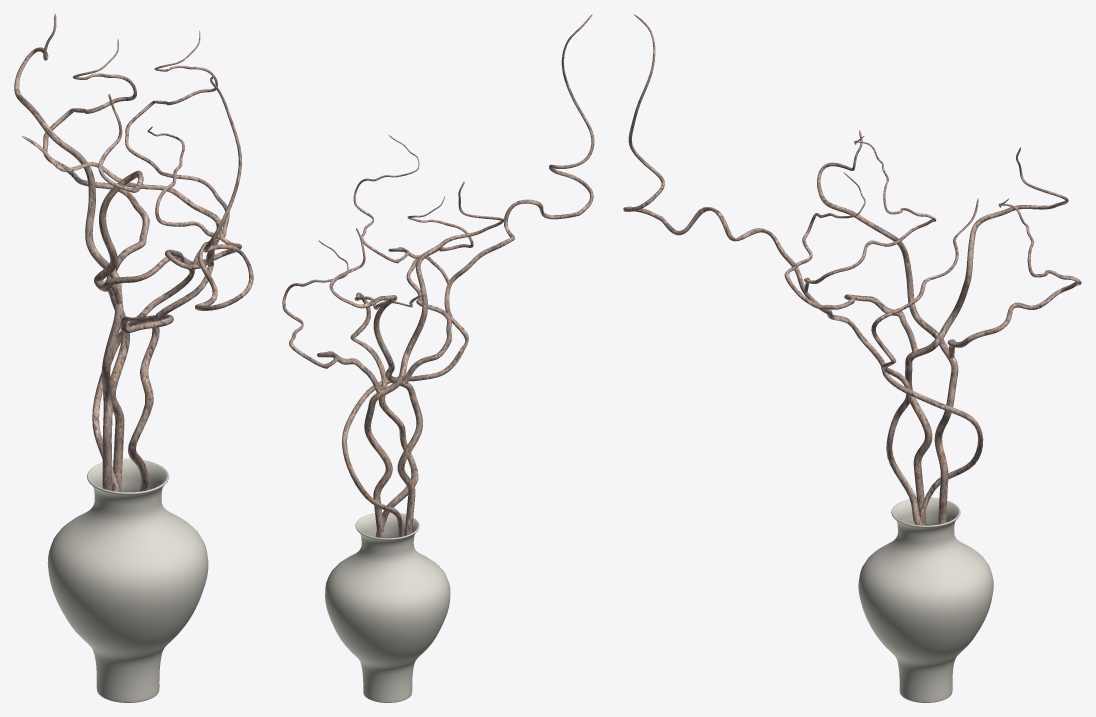
Rendered from veas_3.fbx.
3 views of the same model, side by side, from view 1: azimuth 30°, elevation 25°; view 2: azimuth 150°, elevation 25°; view 3: azimuth 270°, elevation 25° (orthographic). The views are drawn at different scales.
Visible parts, largest first — view 1: Branch_Vase N300523; view 2: Branch_Vase N300523; view 3: Branch_Vase N300523.
Boxes of the visible parts, x1,y1,x2,y2 form: Branch_Vase N300523: [14, 14, 253, 702]; Branch_Vase N300523: [282, 14, 594, 702]; Branch_Vase N300523: [623, 14, 1081, 702].
Size of the model in its own units: 44.34 by 196 by 127.
Materials: 2 (1 with a texture image).
